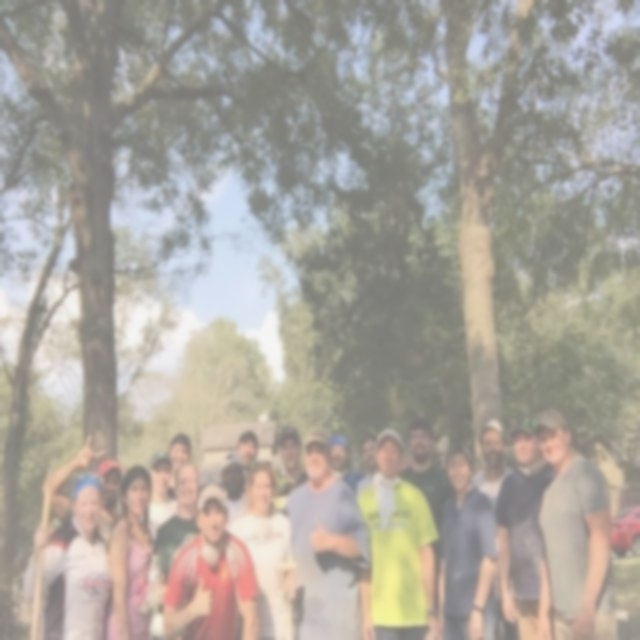pessoa: (534, 410, 621, 640), (282, 426, 372, 640), (356, 426, 444, 640), (15, 469, 121, 639), (160, 482, 262, 639), (495, 415, 562, 639), (224, 461, 299, 639), (436, 437, 500, 639), (398, 416, 457, 618), (470, 417, 520, 639), (102, 464, 157, 639), (40, 432, 124, 542), (151, 459, 201, 586), (140, 448, 178, 551), (268, 427, 312, 500), (326, 431, 368, 498), (219, 448, 251, 531), (354, 434, 382, 502), (166, 433, 192, 501), (237, 429, 260, 479)
